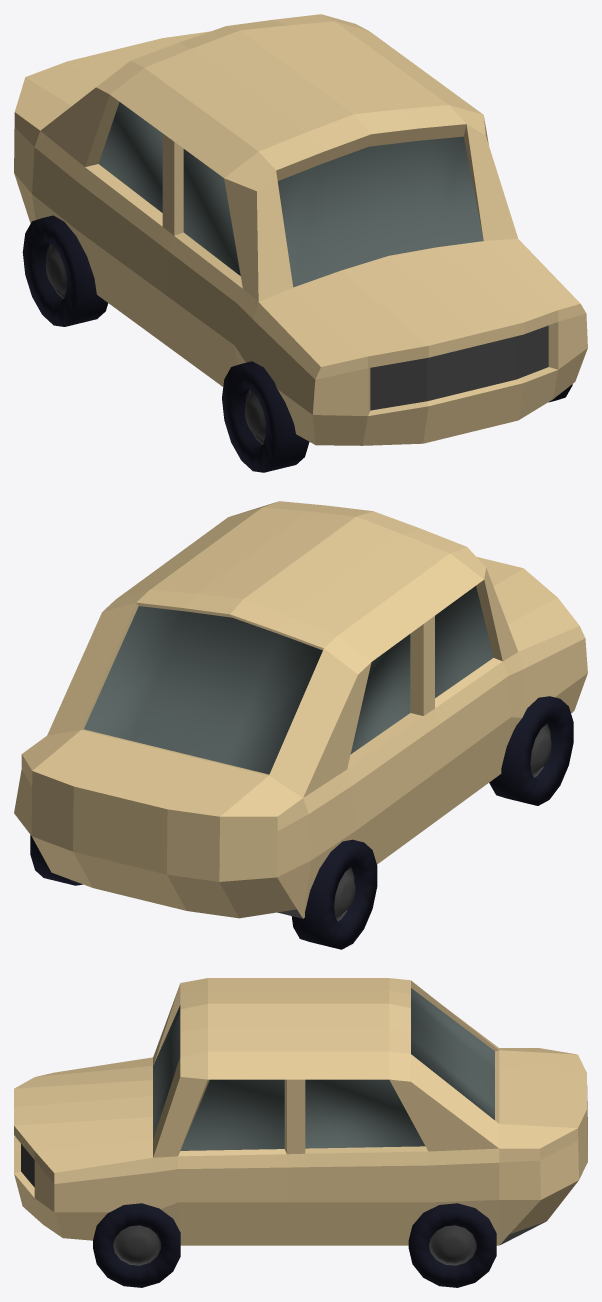
File: lowpolycar.fbx
The picture shows the model from 3 angles, top to bottom: view 1: azimuth 30°, elevation 25°; view 2: azimuth 150°, elevation 25°; view 3: azimuth 270°, elevation 25°; orthographic projection. The views are drawn at different scales.
Parts seen in each view (by area): view 1: Body, Tires; view 2: Body, Tires; view 3: Body, Tires.
Part boxes in pixels (box(x1,y1,x2,y2)): Body: box(14, 14, 587, 445); Tires: box(22, 215, 572, 472); Body: box(14, 501, 587, 918); Tires: box(30, 696, 573, 949); Body: box(14, 978, 587, 1245); Tires: box(93, 1203, 496, 1287).
Size of the model in its own units: 1.87 by 0.8859 by 0.8149.
